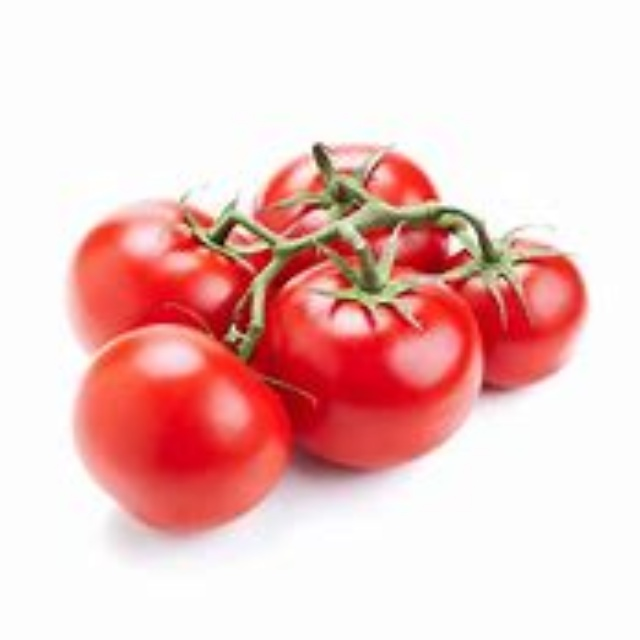tomato: (71, 337, 299, 516), (272, 269, 473, 468), (67, 199, 247, 360), (270, 139, 441, 291), (448, 240, 590, 387)
